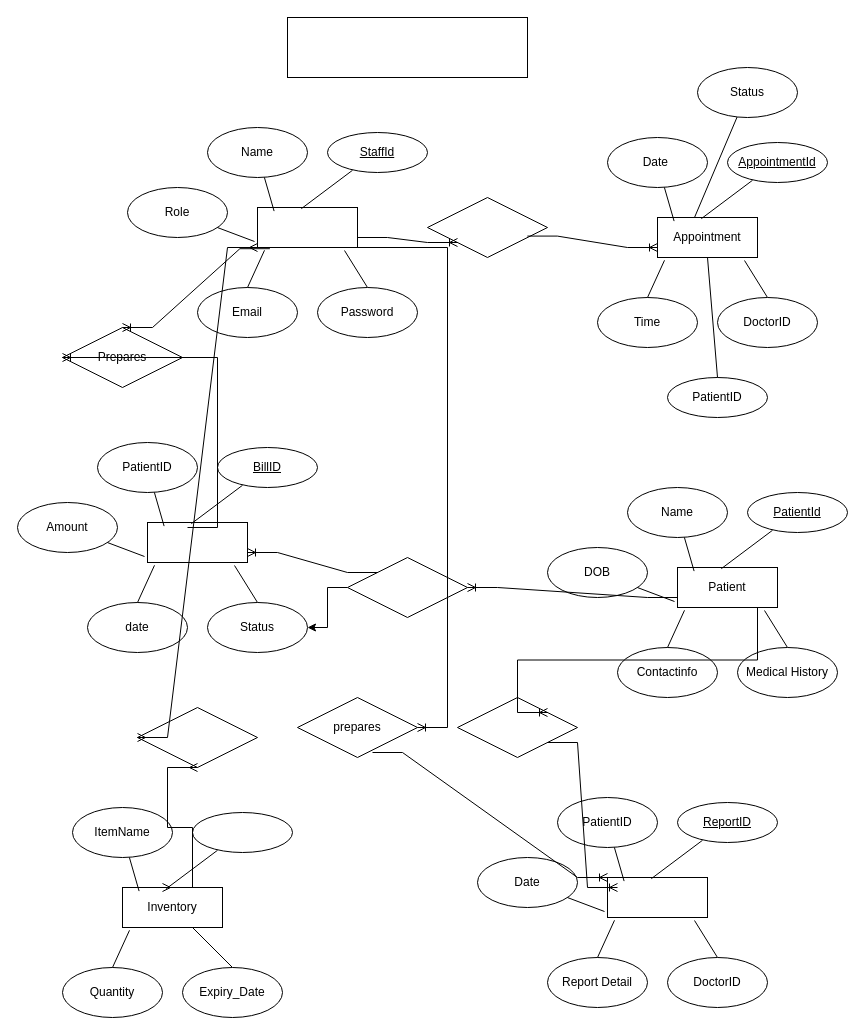
Image size: 865x1035. Some labels were removed from this diagram. Here are the shapes that lost their labels. From the top down, the centre of each, then its label:
At [407,47]: "E-R Diagram for HMS By DIpesh SHrestha".
At [307,227]: "STAFF".
At [487,227]: "Takes".
At [197,542]: "Bill".
At [407,587]: "Receives".
At [197,737]: "checks".
At [517,727]: "has".
At [242,832]: "ItemId".
At [657,897]: "Medicalreport".
